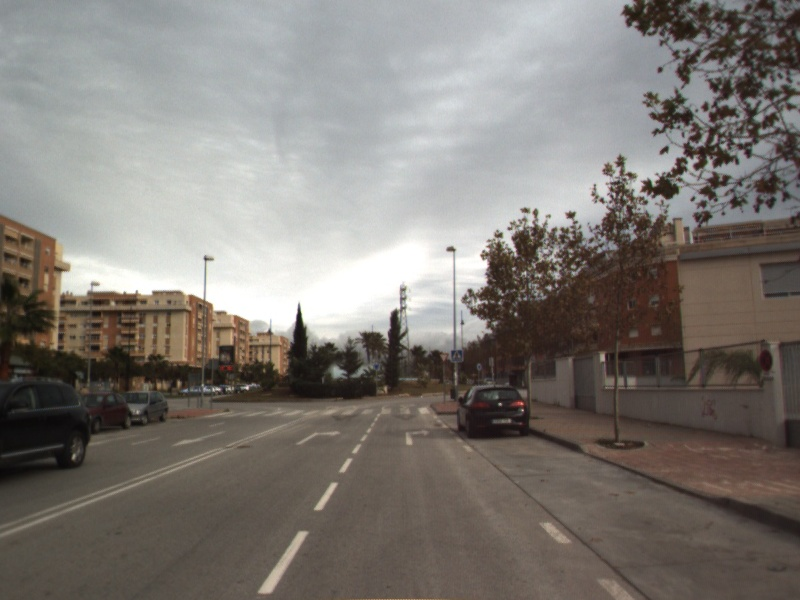RIGHT: (293, 428, 343, 447), (403, 426, 433, 447)
